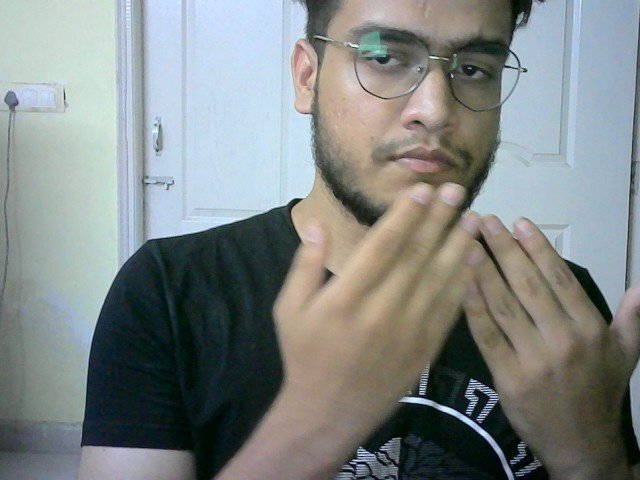Thank You: (281, 179, 640, 435)
